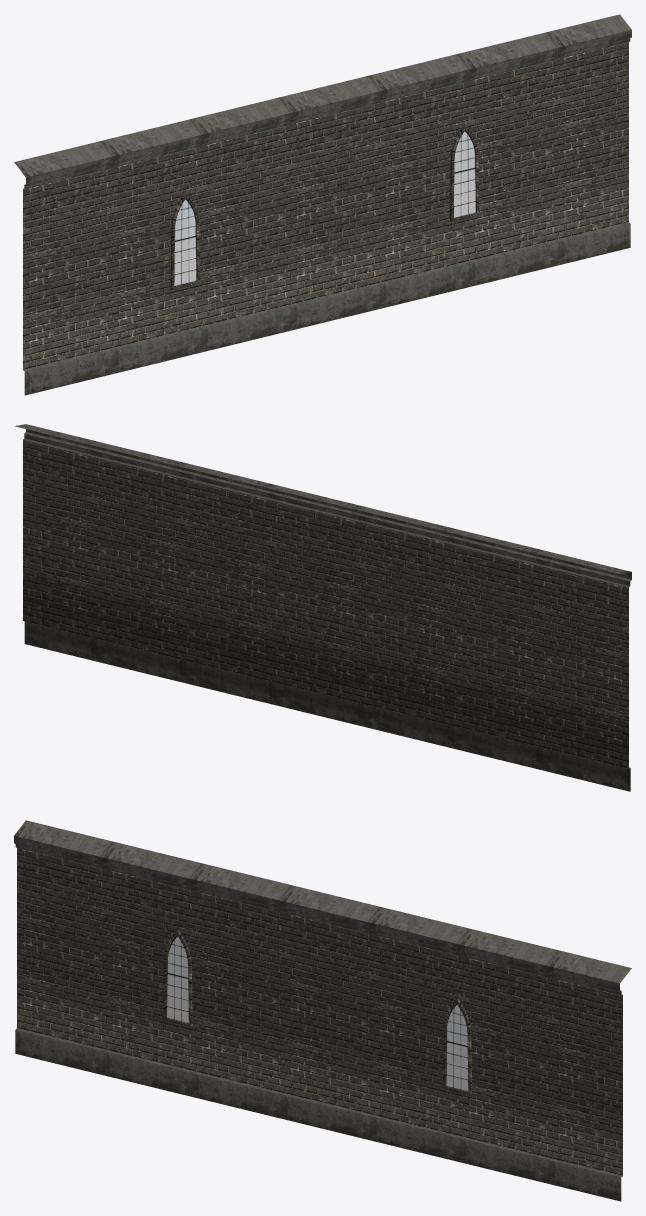
The model's file is backWallWindows.FBX.
The picture shows the model from 3 angles, top to bottom: view 1: azimuth 30°, elevation 25°; view 2: azimuth 150°, elevation 25°; view 3: azimuth 330°, elevation 25°; orthographic projection.
Parts seen in each view (by area): view 1: backWallWindows; view 2: backWallWindows; view 3: backWallWindows.
Boxes of the visible parts, left/top/right/bottom form: backWallWindows: left=14, top=14, right=631, bottom=395; backWallWindows: left=14, top=424, right=631, bottom=791; backWallWindows: left=14, top=820, right=631, bottom=1201.
Bounding box in the file's own units: 2457 × 874 × 84.22.
Materials: 3 (3 with a texture image).
